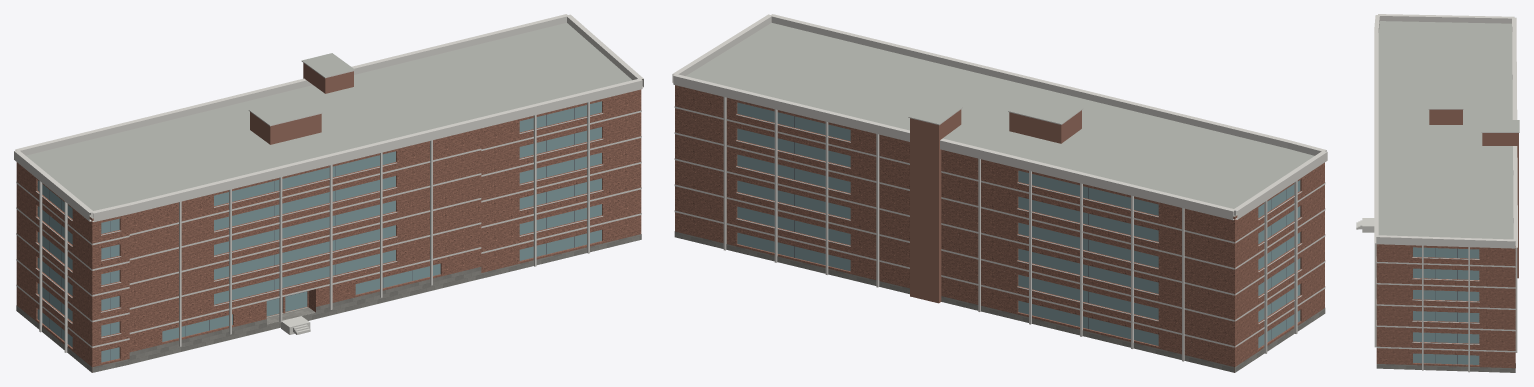
3 renders of one model, left to right at view 1: azimuth 30°, elevation 25°; view 2: azimuth 150°, elevation 25°; view 3: azimuth 270°, elevation 25°, orthographic. The views are drawn at different scales.
Visible parts, largest first — view 1: hum7__wall, hum7__roof, hum7__trim, hum7__glass, hum7__base, hum7__wall2, hum7__frame; view 2: hum7__wall, hum7__roof, hum7__trim, hum7__glass, hum7__wall2, hum7__base; view 3: hum7__roof, hum7__wall, hum7__trim, hum7__glass, hum7__wall2, hum7__base, hum7__entranceStair.
Part boxes in pixels (box(x1,y1,x2,y2)): hum7__wall: box(16, 89, 641, 372); hum7__roof: box(26, 22, 632, 364); hum7__trim: box(14, 14, 643, 352); hum7__glass: box(37, 101, 601, 362); hum7__base: box(16, 234, 641, 372); hum7__wall2: box(250, 63, 353, 144); hum7__frame: box(49, 108, 574, 360); hum7__wall: box(675, 85, 1324, 372); hum7__roof: box(686, 23, 1314, 216); hum7__trim: box(672, 14, 1327, 361); hum7__glass: box(737, 102, 1300, 348); hum7__wall2: box(910, 109, 1081, 303); hum7__base: box(674, 231, 1325, 372); hum7__roof: box(1378, 21, 1519, 245); hum7__wall: box(1376, 244, 1515, 368); hum7__trim: box(1374, 14, 1519, 372); hum7__glass: box(1413, 247, 1479, 364); hum7__wall2: box(1429, 109, 1518, 278); hum7__base: box(1376, 363, 1515, 372); hum7__entranceStair: box(1356, 218, 1374, 232).
Size of the model in its own units: 82.71 by 25.04 by 25.15.
9 materials, 2 textured.
